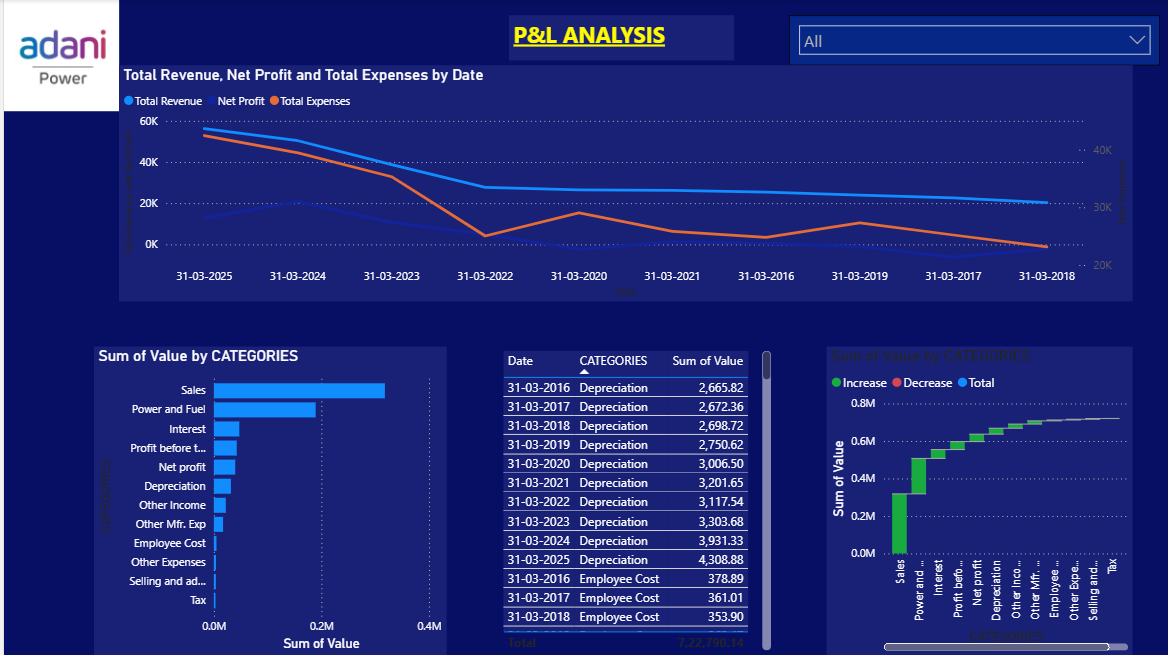

What the dashboard file says about the page in this screenshot:
{"tool":"powerbi","page":{"name":"P&L Analysis","canvas":[1280,720],"ordinal":1},"visuals":[{"type":"image","box":[0,0,126.2,123.5],"z":0},{"type":"textbox","box":[554.4,17.8,247,49.4],"z":1000},{"type":"slicer","fields":{"Values":["DateTable.Year"]},"box":[861.8,17.8,407.5,54.9],"z":2000},{"type":"lineChart","fields":{"Category":["P&L.Date"],"Y":["P&L.Total Revenue","P&L.Net Profit"],"Y2":["P&L.Total Expenses"]},"box":[126.2,72.7,1112.9,259.3],"z":3000},{"type":"clusteredBarChart","fields":{"Category":["P&L.CATEGORIES"],"Y":["Sum(P&L.Value)"]},"box":[98.8,381.5,387,338.9],"z":4000},{"type":"waterfallChart","fields":{"Y":["Sum(P&L.Value)"],"Category":["P&L.CATEGORIES"]},"box":[902.9,381.5,336.2,338.9],"z":5000},{"type":"tableEx","fields":{"Values":["P&L.Date","P&L.CATEGORIES","Sum(P&L.Value)"]},"box":[542,381.5,304.6,338.9],"z":6000}]}

Visuals, with their boxes in screenshot pixels (x1, y1, x2, y2), scaled from the page's 1280x720 canvas onto the 1168x655 screenshot:
image: l=0, t=0, r=115, b=112
textbox: l=506, t=16, r=731, b=61
slicer - DateTable.Year: l=786, t=16, r=1158, b=66
lineChart - P&L.Date x P&L.Total Revenue: l=115, t=66, r=1131, b=302
clusteredBarChart - P&L.CATEGORIES x Sum(P&L.Value): l=90, t=347, r=443, b=654
waterfallChart - Sum(P&L.Value) x P&L.CATEGORIES: l=824, t=347, r=1131, b=654
tableEx - P&L.Date x P&L.CATEGORIES: l=495, t=347, r=773, b=654
